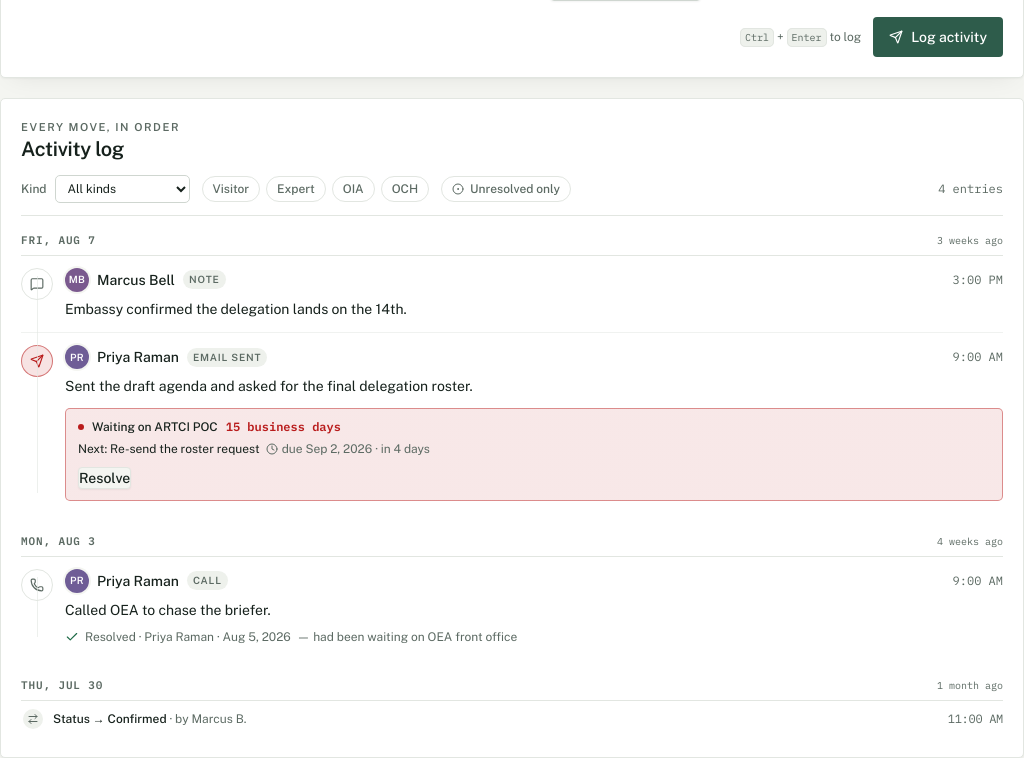
Scenario: ActivityTimeline › keeps the entry open and explains itself when resolving fails
(page scrolled)
Click the button "Resolve" at (105, 478), box [78, 467, 131, 489]
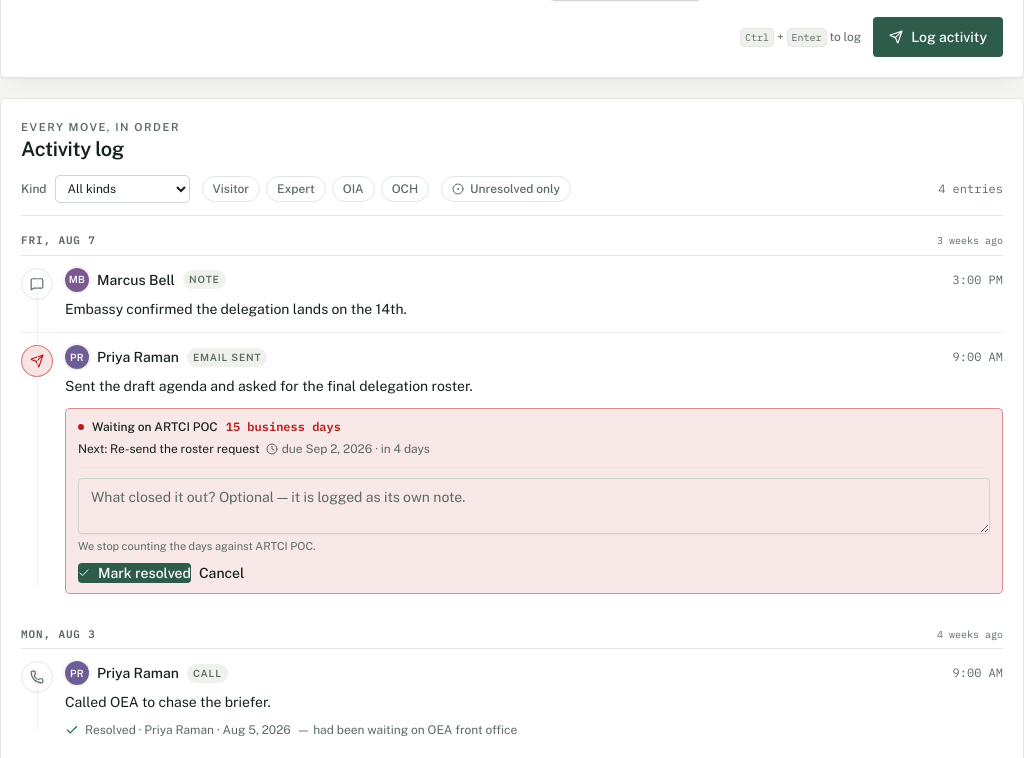
Click the button "Mark resolved" at (134, 572), box [78, 562, 191, 582]
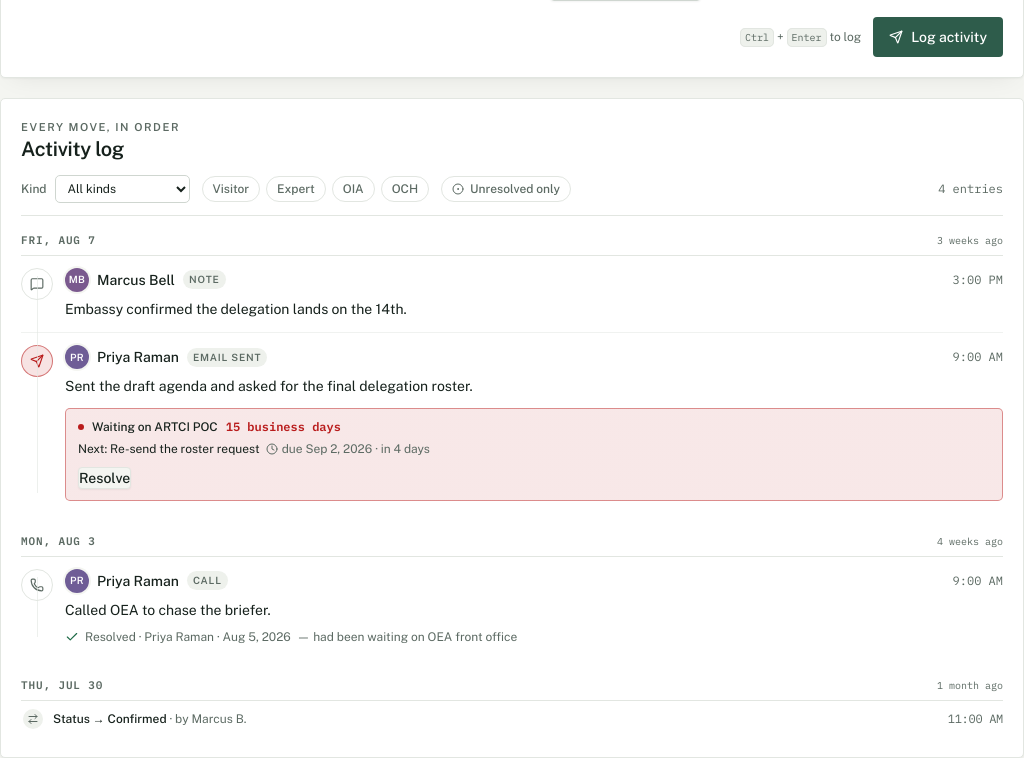
expect the number of buttons "Resolve" is 1: met, box [78, 467, 131, 489]
